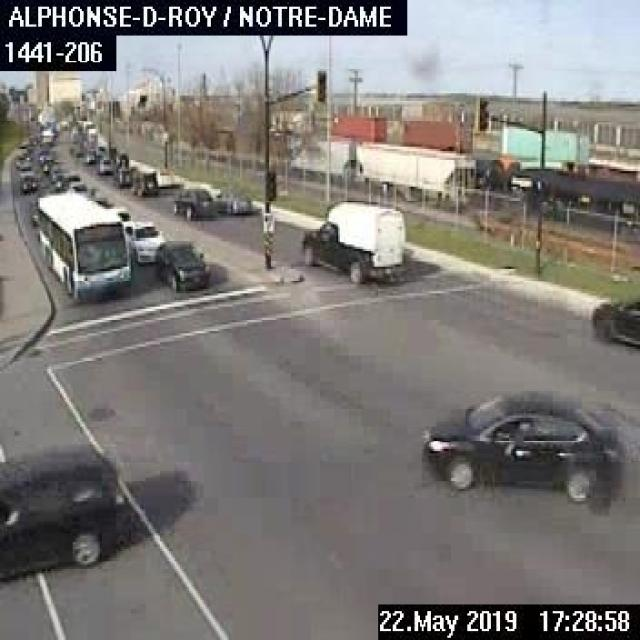bus: (30, 186, 131, 302)
vehicle: (416, 384, 624, 498), (0, 444, 131, 580), (298, 198, 407, 284), (588, 278, 638, 349), (151, 235, 211, 293), (122, 217, 165, 266), (168, 182, 216, 222), (212, 185, 256, 216), (126, 167, 158, 196), (17, 171, 39, 195), (115, 154, 130, 187), (107, 203, 129, 223), (96, 152, 112, 174), (152, 166, 171, 184), (12, 154, 34, 169), (66, 180, 88, 194), (40, 158, 60, 172)
